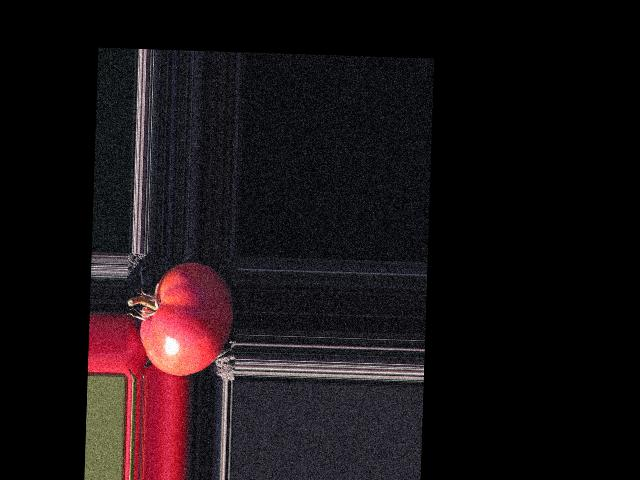tomato: (139, 260, 235, 377)
